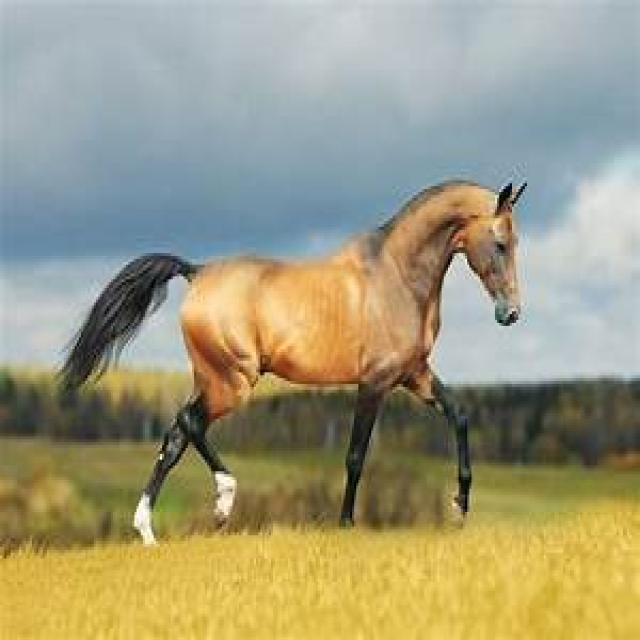horse: (60, 181, 525, 543)
